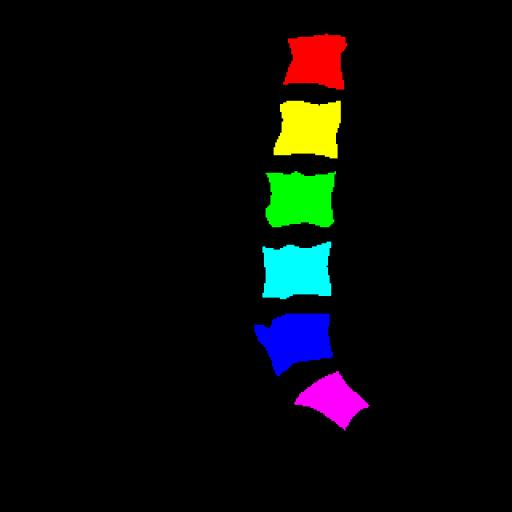L1: (283, 34, 347, 90)
L2: (274, 101, 341, 158)
L3: (266, 172, 334, 227)
L4: (262, 242, 331, 298)
L5: (255, 314, 333, 376)
S1: (294, 371, 369, 430)
